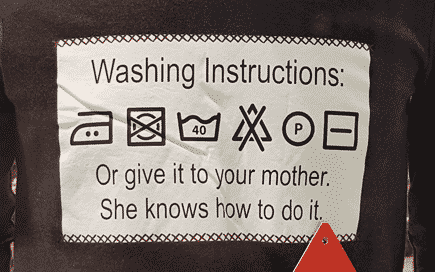do_not_bleach: (232, 103, 272, 151)
